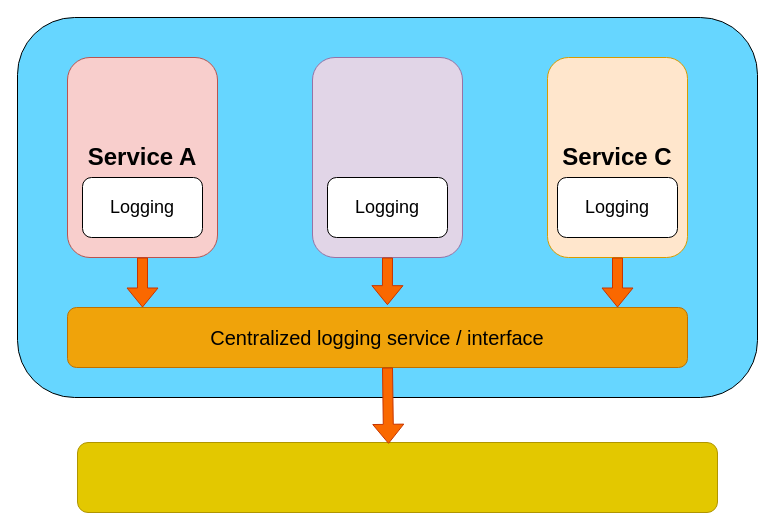
The diagram is 775 pixels wide and 530 high, and some of its shapes have lost their labels. The box of each missing label's shape, as (x1, y1, x2, y2) in pixels:
Centralized Logs location: (76, 442, 718, 512)
Service B: (312, 56, 462, 258)
